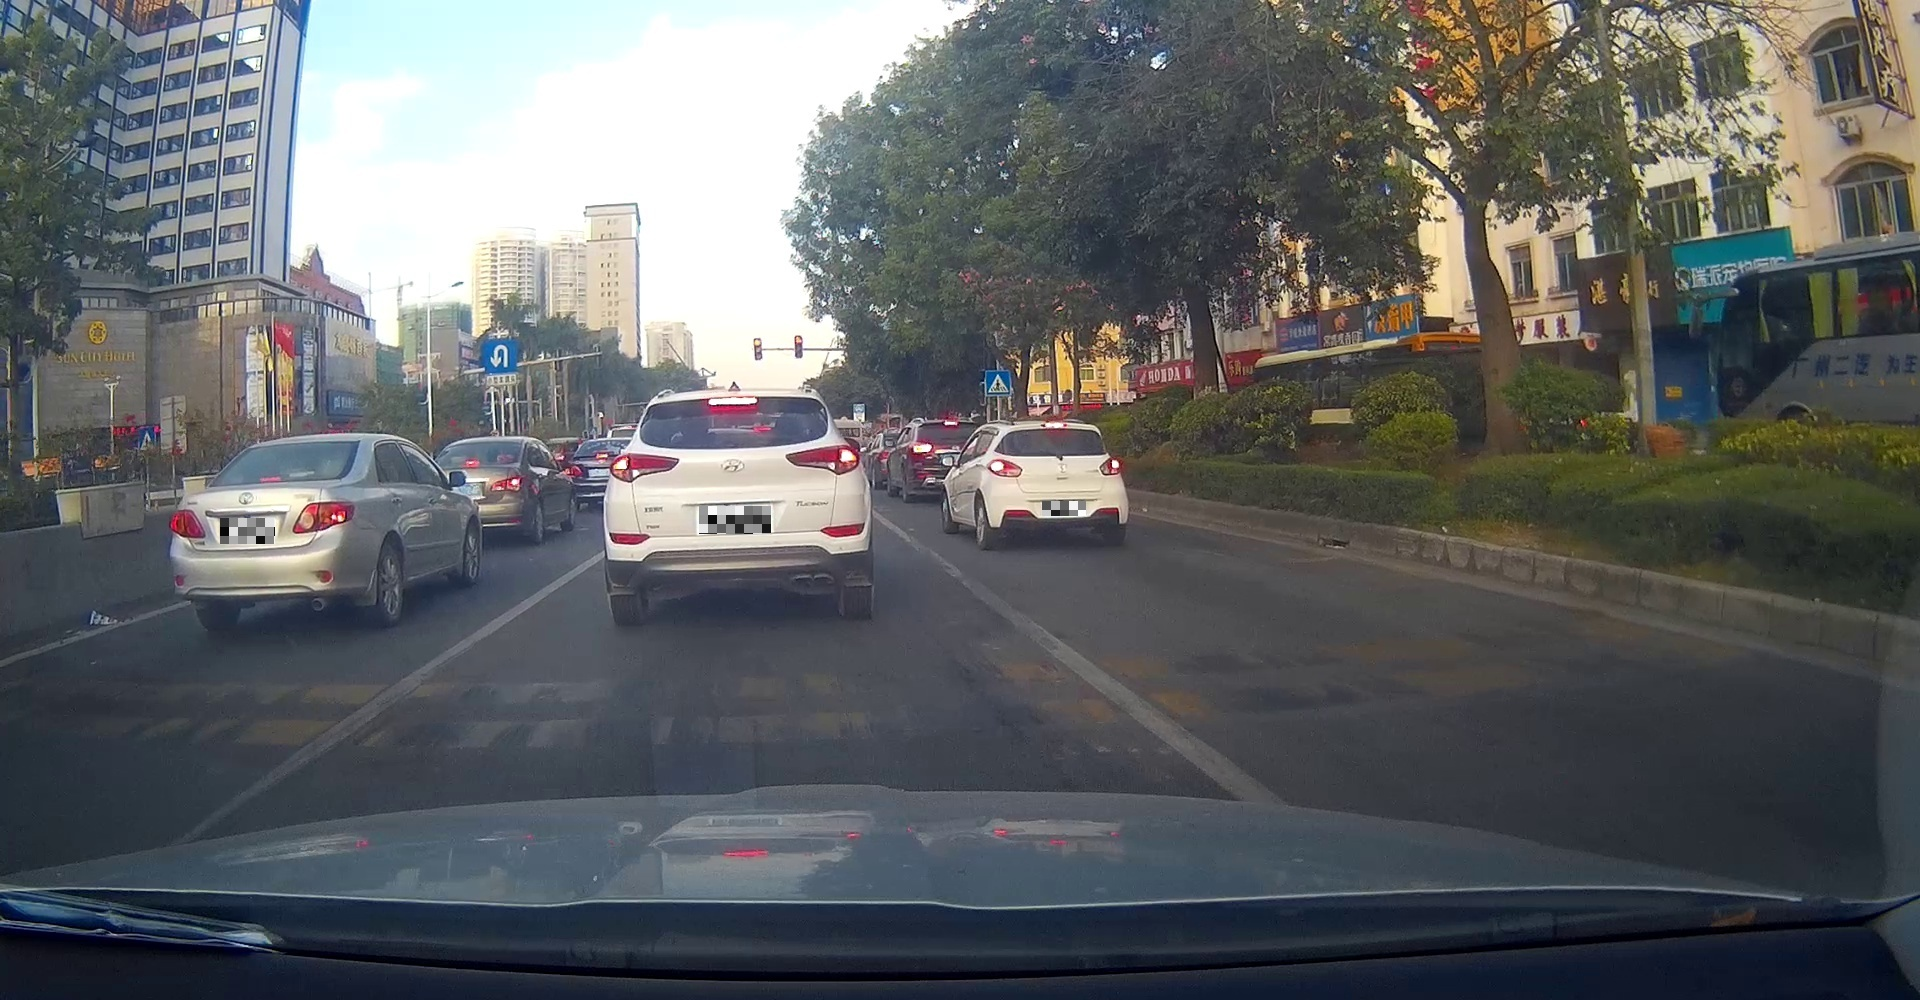L_light: (610, 453, 679, 482), (170, 510, 206, 538), (985, 459, 1023, 478)
R_light: (785, 444, 860, 476), (292, 500, 356, 533), (1098, 457, 1121, 475)
T_light: (707, 397, 758, 405), (259, 476, 283, 482), (1045, 423, 1064, 428)
day-brake: (602, 390, 872, 624), (169, 433, 357, 631), (982, 420, 1130, 549)
plate_1: (220, 518, 276, 544)
plate_2: (698, 506, 771, 534)
plate_3: (1043, 501, 1086, 516)
